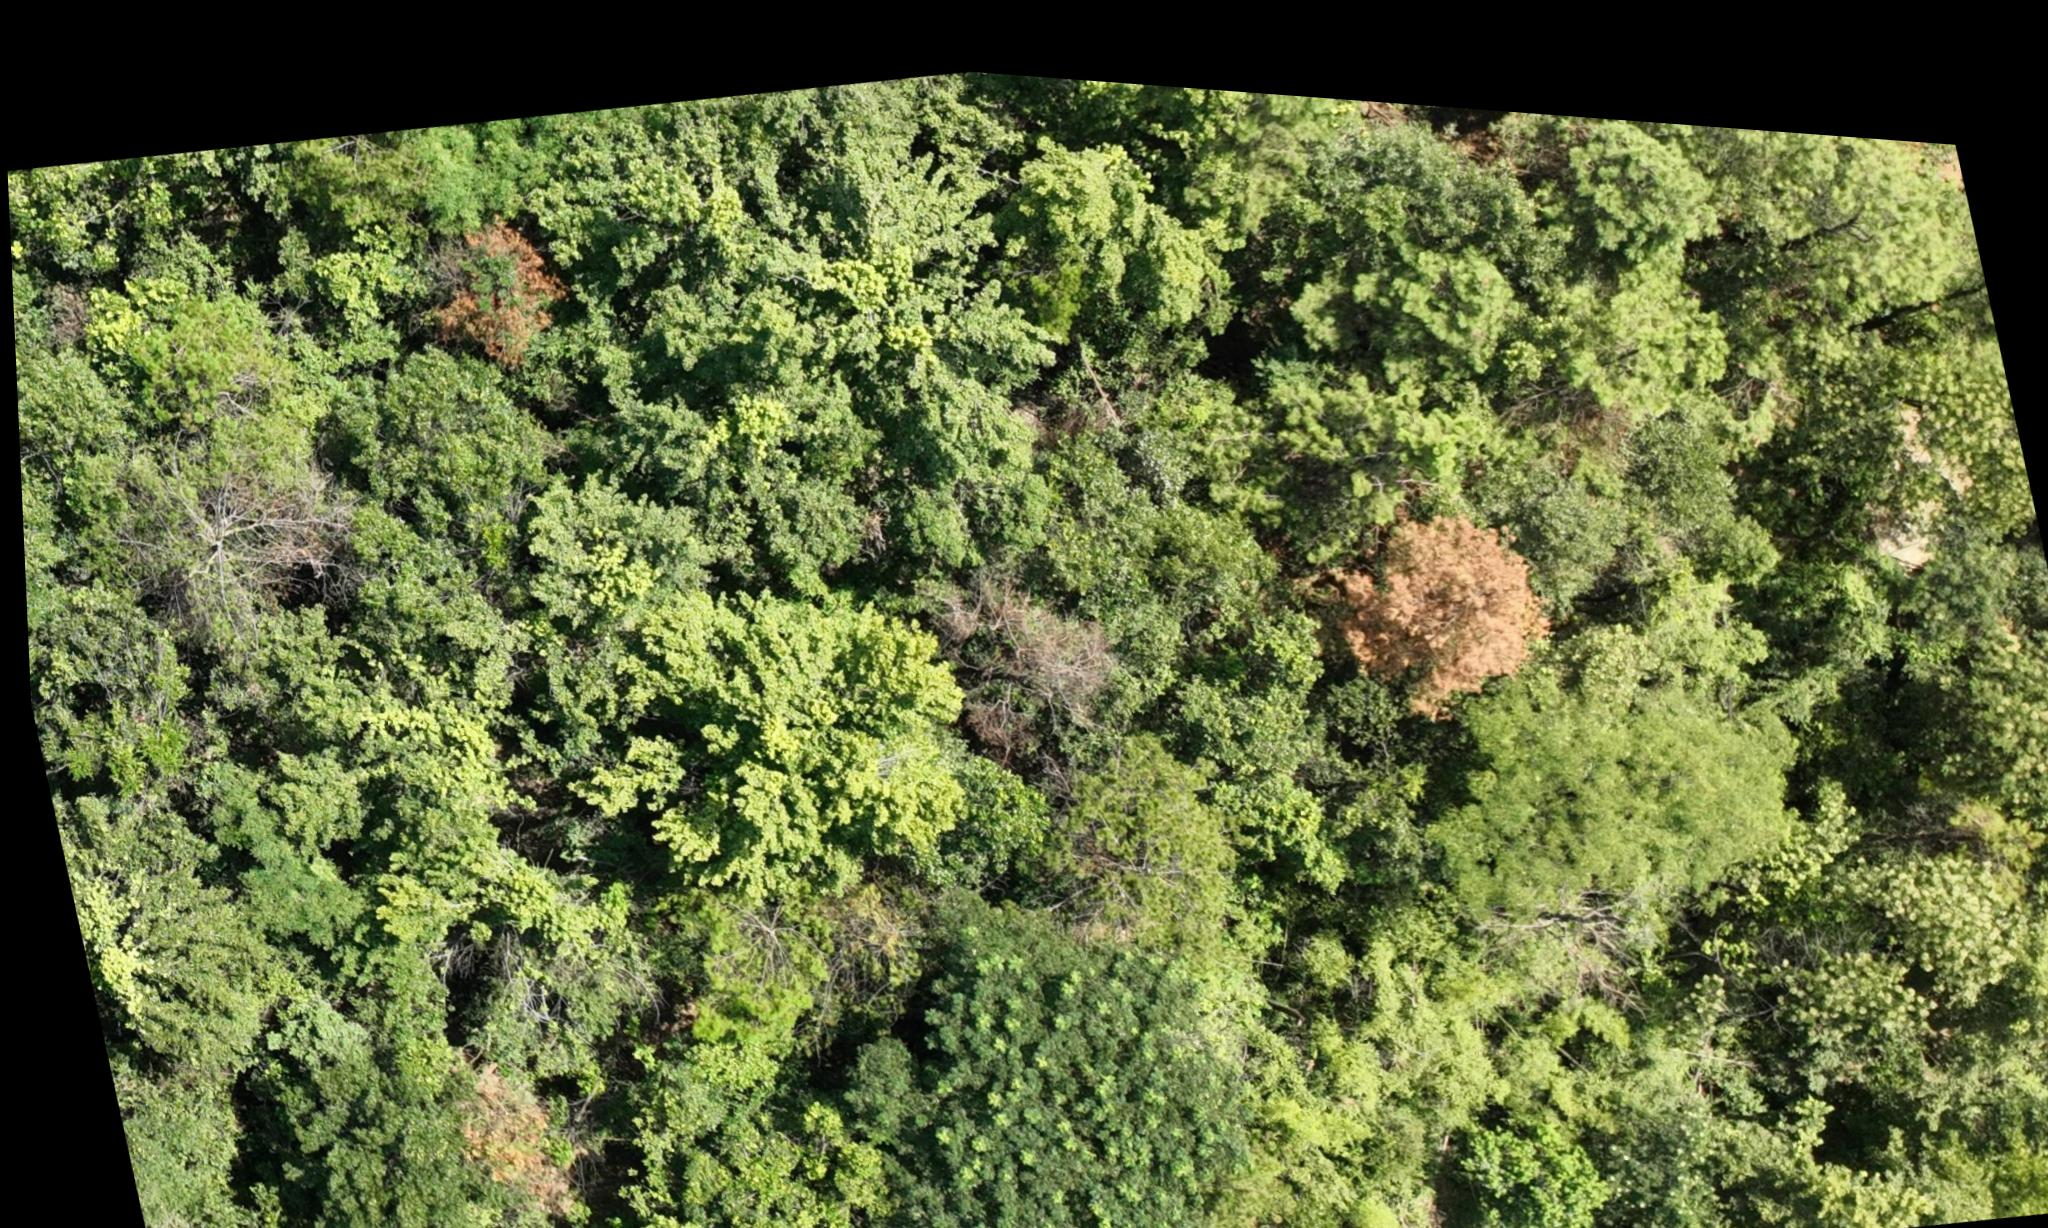dead: (937, 551, 1123, 751)
heavy: (1301, 460, 1561, 721), (437, 1035, 566, 1216), (427, 206, 564, 367)
